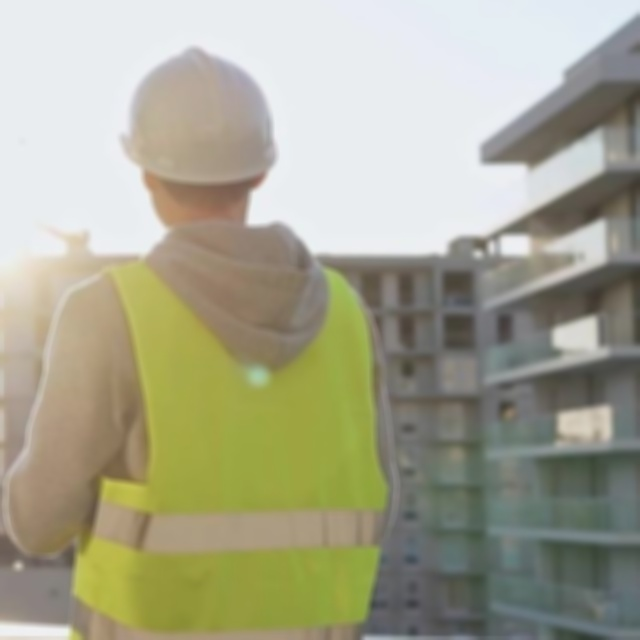Con_Casco: (118, 46, 282, 224)
Con_Chaleco: (70, 237, 391, 640)
